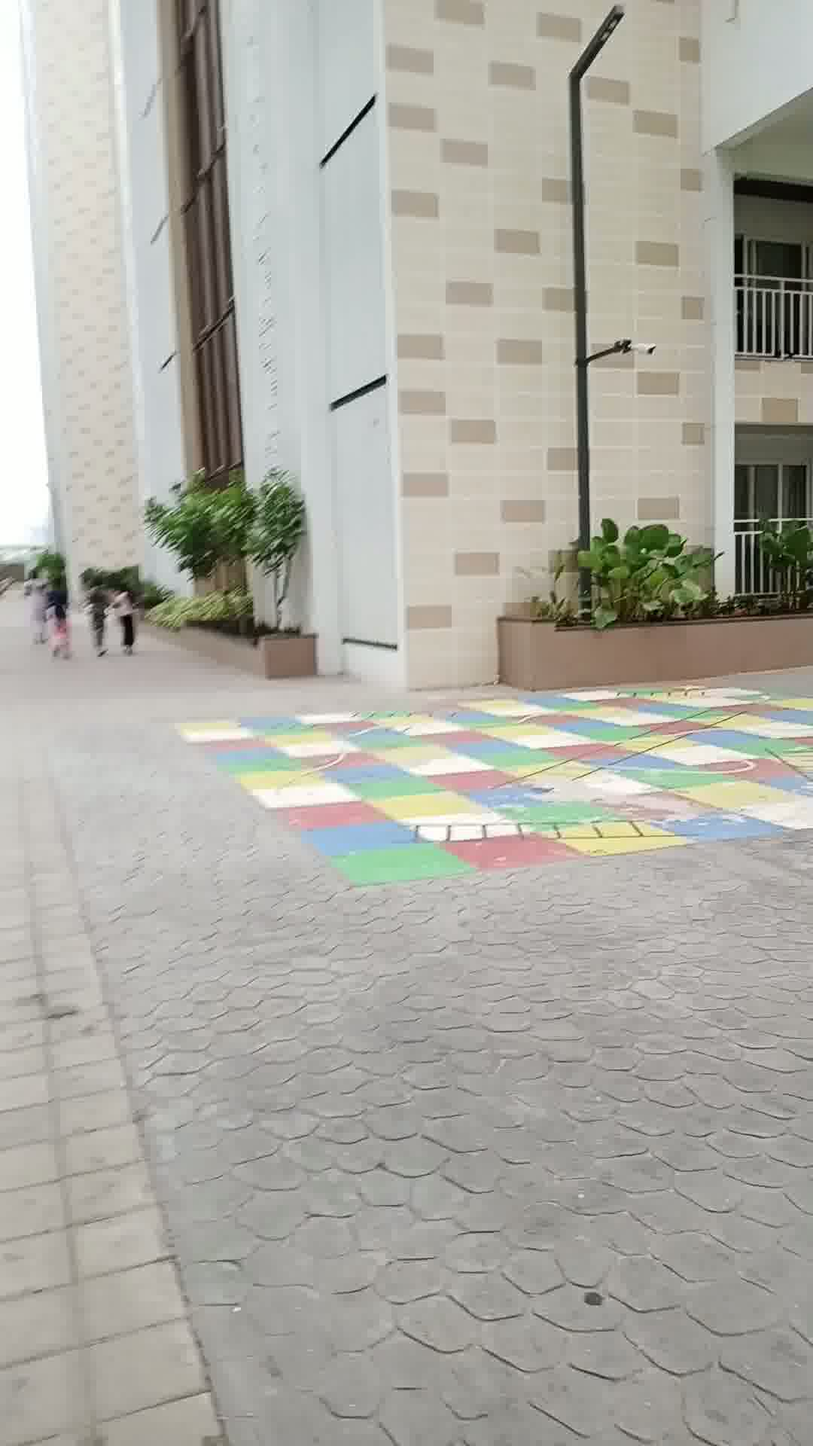tree: (236, 455, 330, 666), (156, 478, 248, 638)
